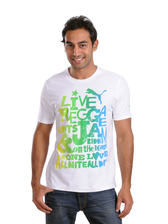clothoes: (36, 68, 135, 194)
